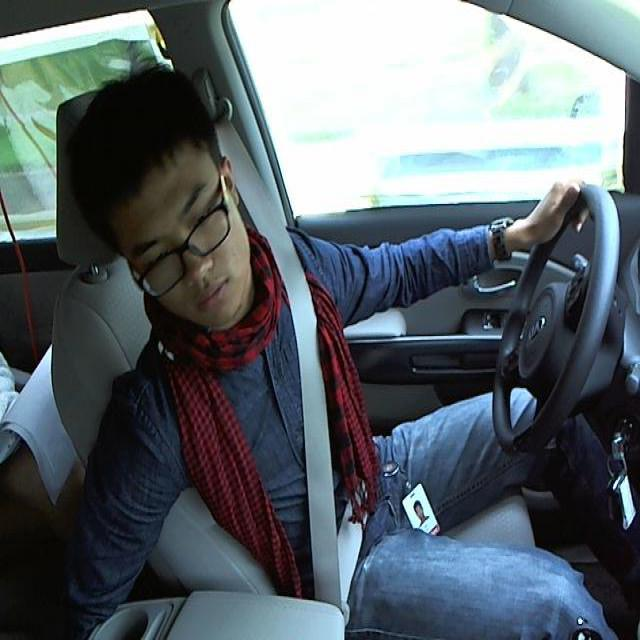seatbelt: (280, 302, 372, 638)
